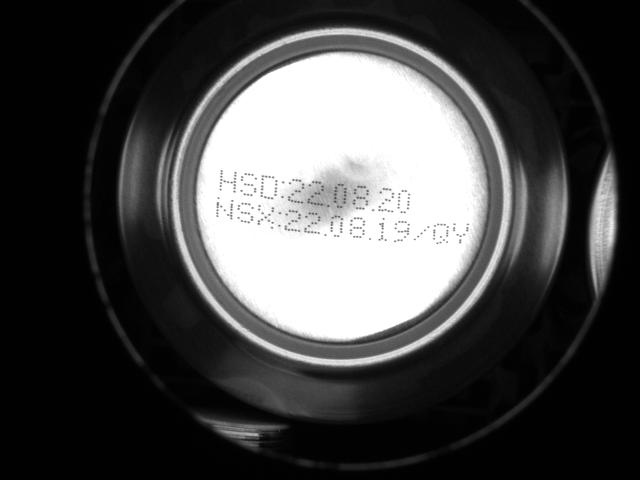.: (325, 196, 331, 209), (321, 224, 327, 237), (369, 200, 375, 213), (367, 227, 373, 240)
/: (413, 223, 431, 242)
0: (333, 181, 348, 212), (329, 210, 344, 241), (396, 184, 411, 215)
1: (377, 214, 387, 243)
2: (287, 176, 304, 204), (306, 179, 323, 207), (284, 207, 301, 235), (303, 209, 320, 237), (377, 185, 394, 213)
8: (351, 183, 371, 211), (347, 213, 367, 241)
9: (391, 218, 411, 244)
:: (279, 179, 286, 204), (276, 206, 283, 231)
D: (258, 172, 279, 200)
H: (216, 167, 237, 195)
N: (215, 195, 235, 221)
Q: (432, 221, 450, 248)
S: (239, 171, 257, 199), (236, 198, 254, 226)
X: (255, 202, 275, 231)
Y: (451, 217, 472, 250)
